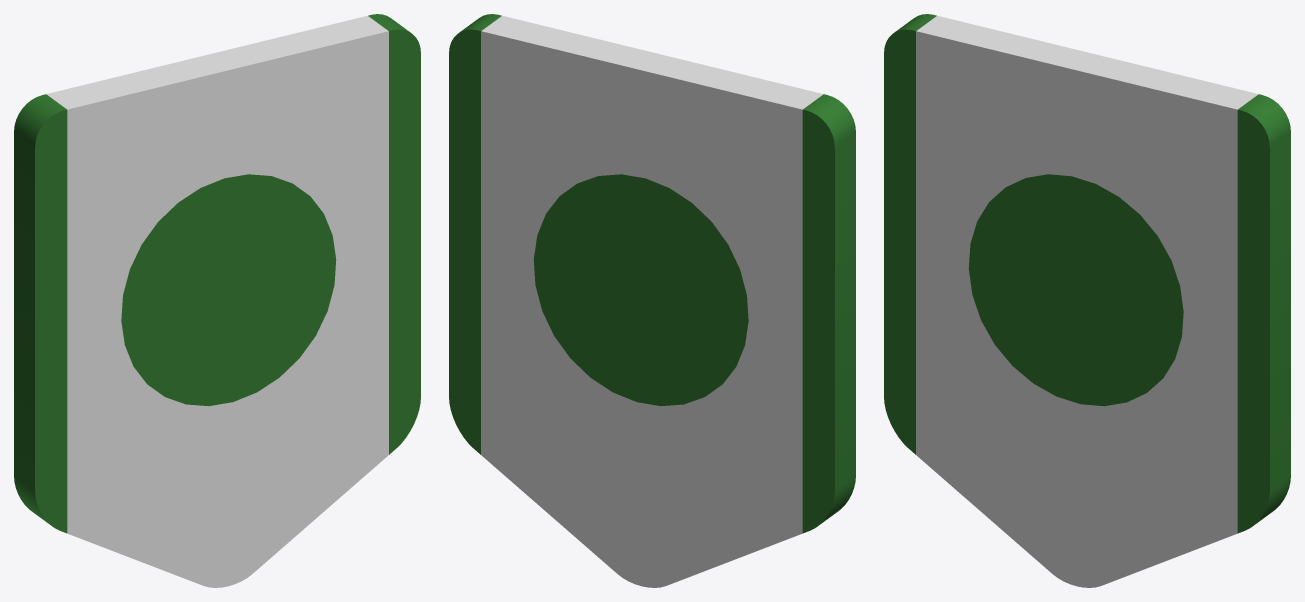
The model's file is Flag Team С.fbx.
3 renders of one model, left to right at view 1: azimuth 30°, elevation 25°; view 2: azimuth 150°, elevation 25°; view 3: azimuth 330°, elevation 25°, orthographic.
Visible parts, largest first — view 1: Flag Team С; view 2: Flag Team С; view 3: Flag Team С.
Boxes of the visible parts, x1=… form: Flag Team С: x1=14, y1=14, x2=420, y2=587; Flag Team С: x1=449, y1=14, x2=855, y2=587; Flag Team С: x1=884, y1=14, x2=1290, y2=587.
Size of the model in its own units: 159 by 203 by 16.12.
